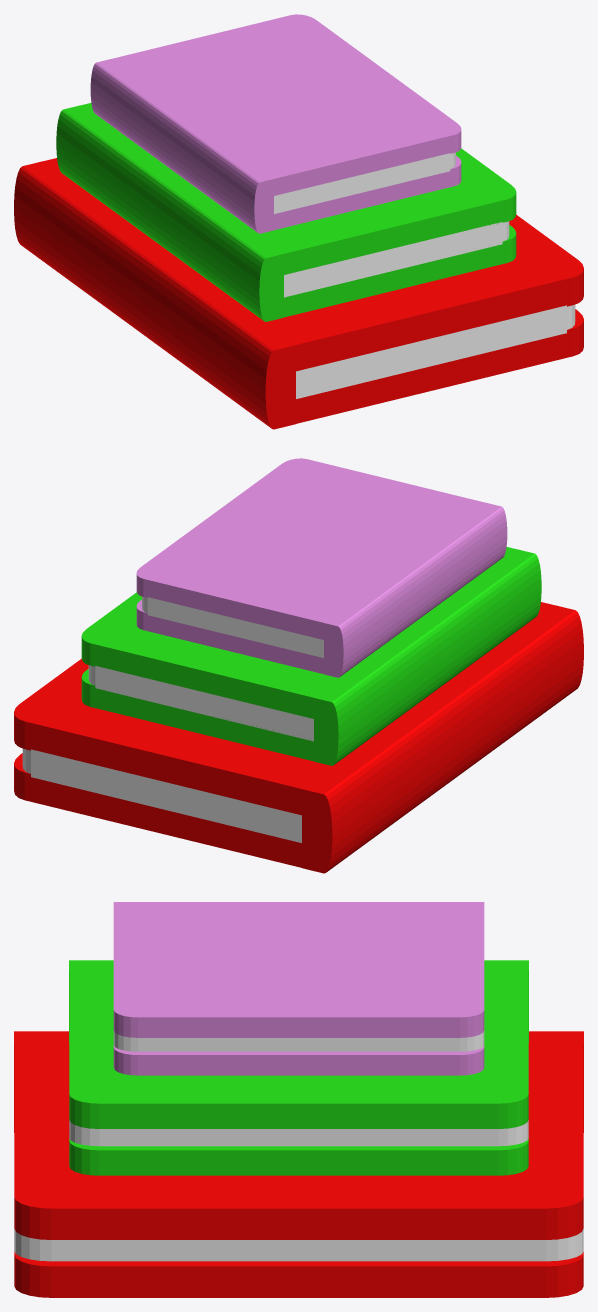
Rendered from books.fbx.
3 views of the same model, one above another, from view 1: azimuth 30°, elevation 25°; view 2: azimuth 150°, elevation 25°; view 3: azimuth 270°, elevation 25° (orthographic). The views are drawn at different scales.
Visible parts, largest first — view 1: Book cover, Book cover.002, Book cover.001, content, content.001, content.002; view 2: Book cover, Book cover.002, Book cover.001, content, content.001, content.002; view 3: Book cover, Book cover.002, Book cover.001, content, content.001, content.002.
Boxes of the visible parts, x1=… form: Book cover: x1=14, y1=158, x2=583, y2=429; Book cover.002: x1=90, y1=14, x2=461, y2=233; Book cover.001: x1=56, y1=103, x2=516, y2=321; content: x1=296, y1=304, x2=575, y2=398; content.001: x1=284, y1=221, x2=509, y2=297; content.002: x1=274, y1=152, x2=455, y2=213; Book cover: x1=14, y1=602, x2=583, y2=873; Book cover.002: x1=136, y1=458, x2=507, y2=677; Book cover.001: x1=81, y1=547, x2=541, y2=765; content: x1=22, y1=748, x2=301, y2=842; content.001: x1=88, y1=665, x2=313, y2=741; content.002: x1=142, y1=596, x2=323, y2=657; Book cover: x1=14, y1=1031, x2=583, y2=1297; Book cover.002: x1=113, y1=902, x2=484, y2=1075; Book cover.001: x1=69, y1=960, x2=528, y2=1175; content: x1=14, y1=1229, x2=583, y2=1261; content.001: x1=69, y1=1120, x2=528, y2=1146; content.002: x1=113, y1=1030, x2=484, y2=1051.
Bounding box in the file's own units: 20.78 × 12.52 × 27.5.
